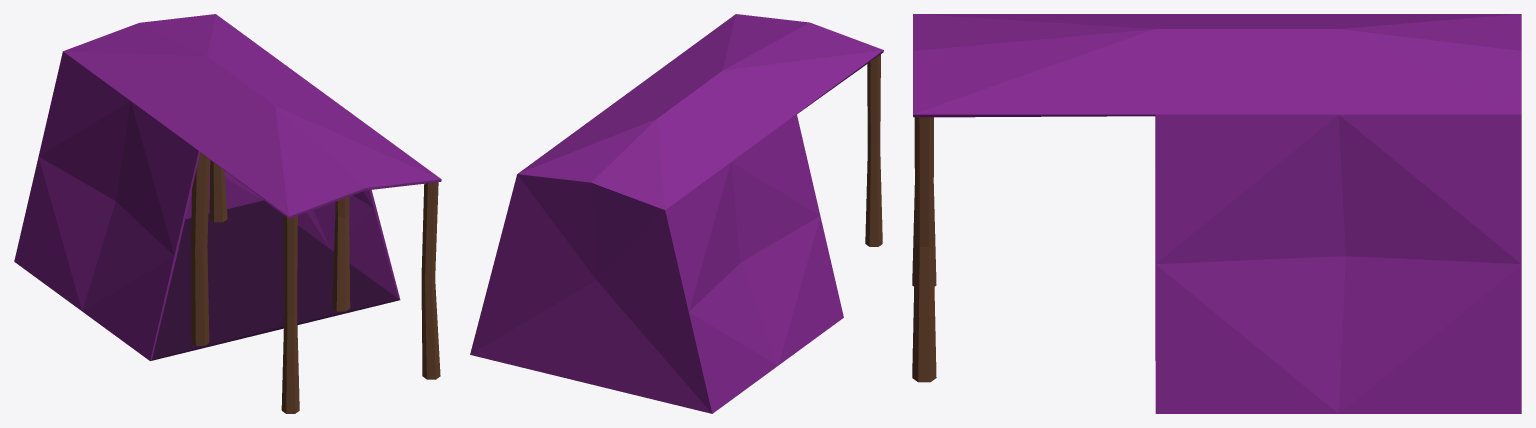
File: Tent_4_Purple.fbx
3 renders of one model, left to right at view 1: azimuth 30°, elevation 25°; view 2: azimuth 150°, elevation 25°; view 3: azimuth 270°, elevation 25°, orthographic. The views are drawn at different scales.
Visible parts, largest first — view 1: Tent_4_Purple_Part_2, Tent_4_Purple_Part_3, Tent_4_Purple_Part_1, Tent_4_Purple_Part_4, Tent_4_Purple_Part_8, Tent_4_Purple_Part_6, Tent_4_Purple_Part_7, Tent_4_Purple_Part_9, Tent_4_Purple_Part_11, Tent_4_Purple_Part_5; view 2: Tent_4_Purple_Part_5, Tent_4_Purple_Part_2, Tent_4_Purple_Part_3, Tent_4_Purple_Part_7; view 3: Tent_4_Purple_Part_4, Tent_4_Purple_Part_2, Tent_4_Purple_Part_6.
Boxes of the visible parts, x1=… form: Tent_4_Purple_Part_2: x1=63, y1=14, x2=441, y2=218; Tent_4_Purple_Part_3: x1=14, y1=51, x2=200, y2=360; Tent_4_Purple_Part_1: x1=151, y1=200, x2=399, y2=360; Tent_4_Purple_Part_4: x1=264, y1=190, x2=400, y2=299; Tent_4_Purple_Part_8: x1=191, y1=152, x2=209, y2=345; Tent_4_Purple_Part_6: x1=421, y1=182, x2=440, y2=379; Tent_4_Purple_Part_7: x1=281, y1=215, x2=299, y2=413; Tent_4_Purple_Part_9: x1=332, y1=196, x2=350, y2=311; Tent_4_Purple_Part_11: x1=209, y1=160, x2=227, y2=222; Tent_4_Purple_Part_5: x1=185, y1=160, x2=263, y2=219; Tent_4_Purple_Part_5: x1=470, y1=174, x2=712, y2=413; Tent_4_Purple_Part_2: x1=517, y1=14, x2=883, y2=209; Tent_4_Purple_Part_3: x1=665, y1=114, x2=843, y2=413; Tent_4_Purple_Part_7: x1=865, y1=54, x2=882, y2=246; Tent_4_Purple_Part_4: x1=1155, y1=114, x2=1521, y2=413; Tent_4_Purple_Part_2: x1=913, y1=14, x2=1521, y2=117; Tent_4_Purple_Part_6: x1=912, y1=117, x2=936, y2=382.
Size of the model in its own units: 320 by 274 by 501.
